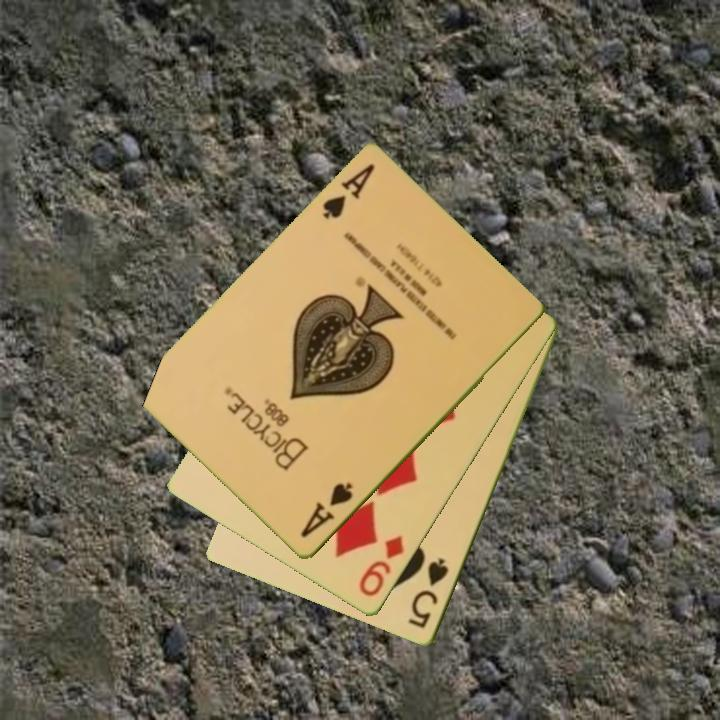5s: (405, 555, 452, 632)
9d: (355, 532, 408, 601)
As: (318, 161, 378, 223), (297, 479, 356, 542)
